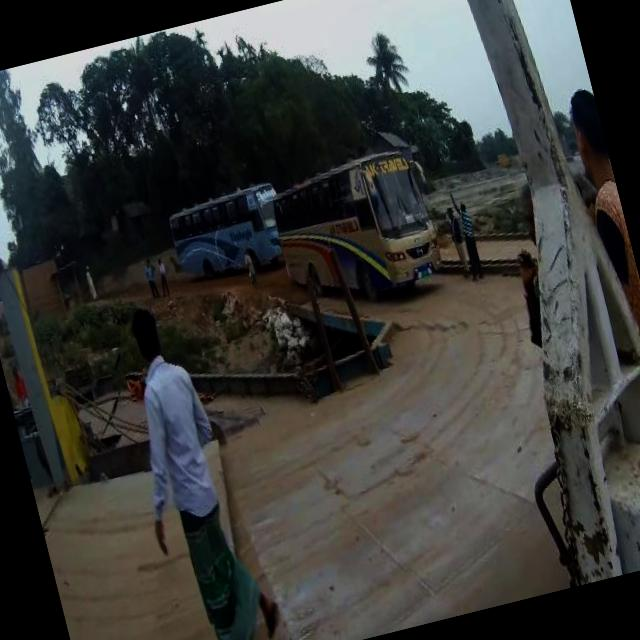bus: (264, 144, 449, 318), (164, 180, 282, 286)
